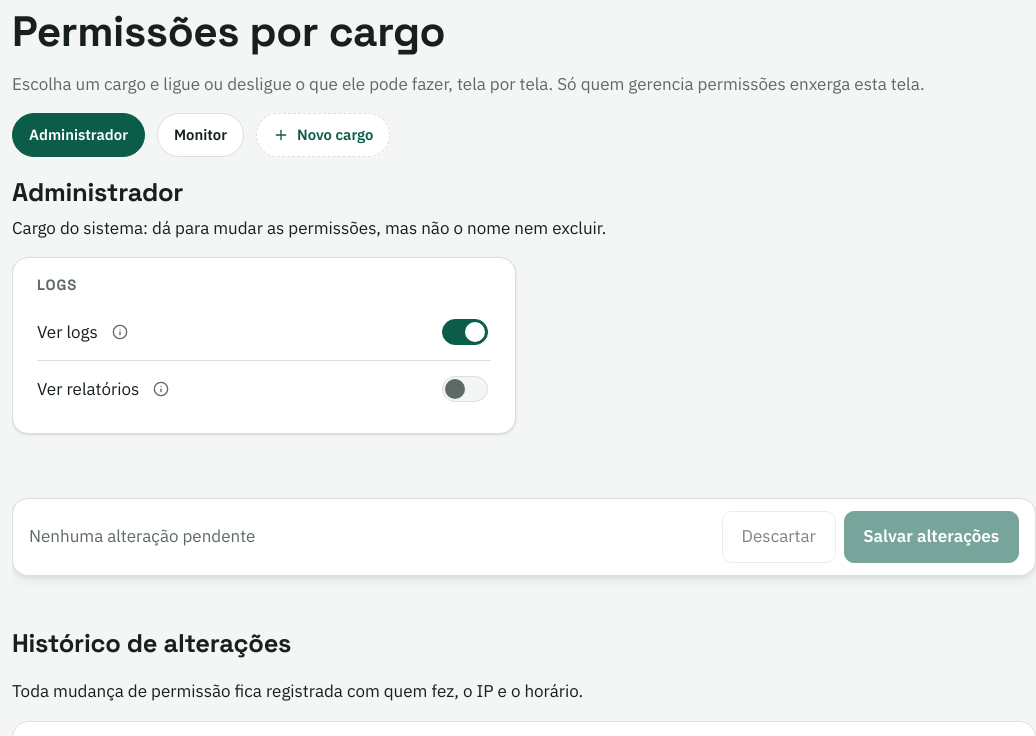
PermissionsPage - edição e salvamento › mostra o erro de salvamento com uma Error e recarrega os dados
The image size is (1036, 736).
Expected: the tab "Administrador" is shown, [12, 113, 145, 157]
Click the checkbox labelled "Ver relatórios" at [465, 389], box [442, 376, 488, 402]
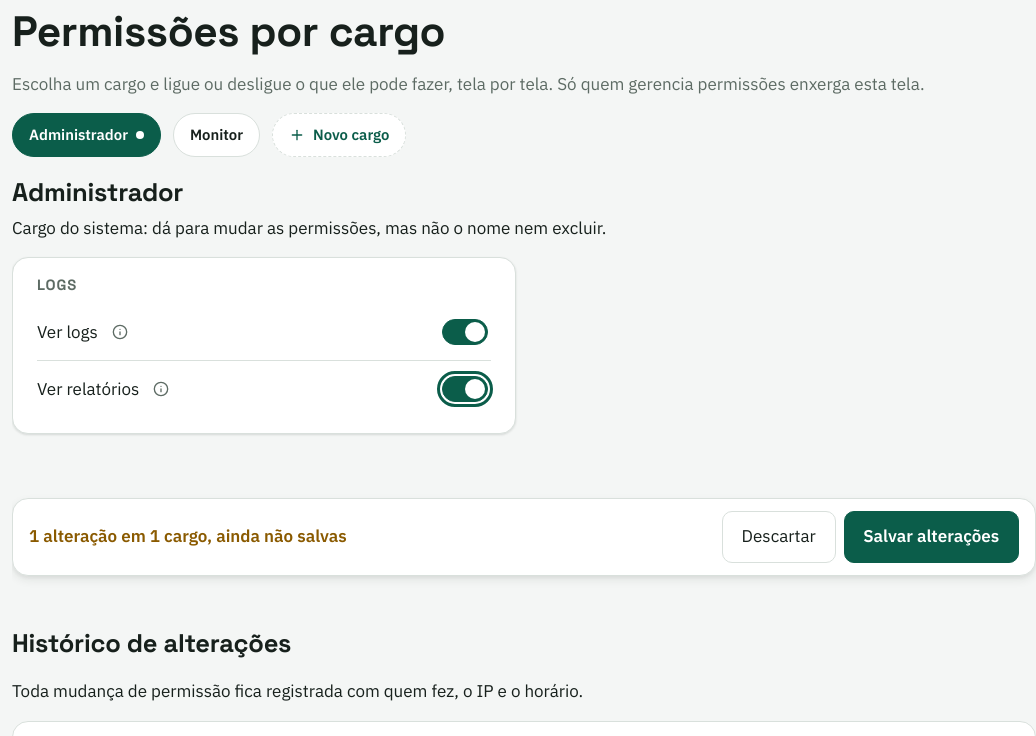
Click the button "Salvar alterações" at [931, 537], box [844, 511, 1019, 563]
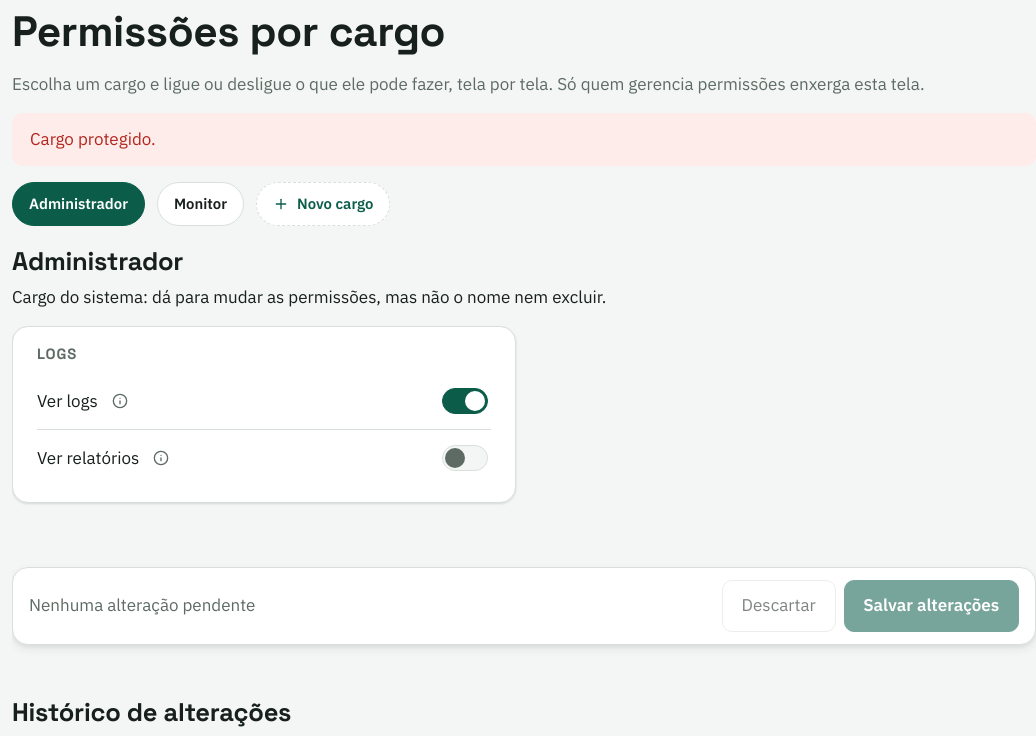
Expected: the message reads "Cargo protegido.", [30, 128, 156, 150]
